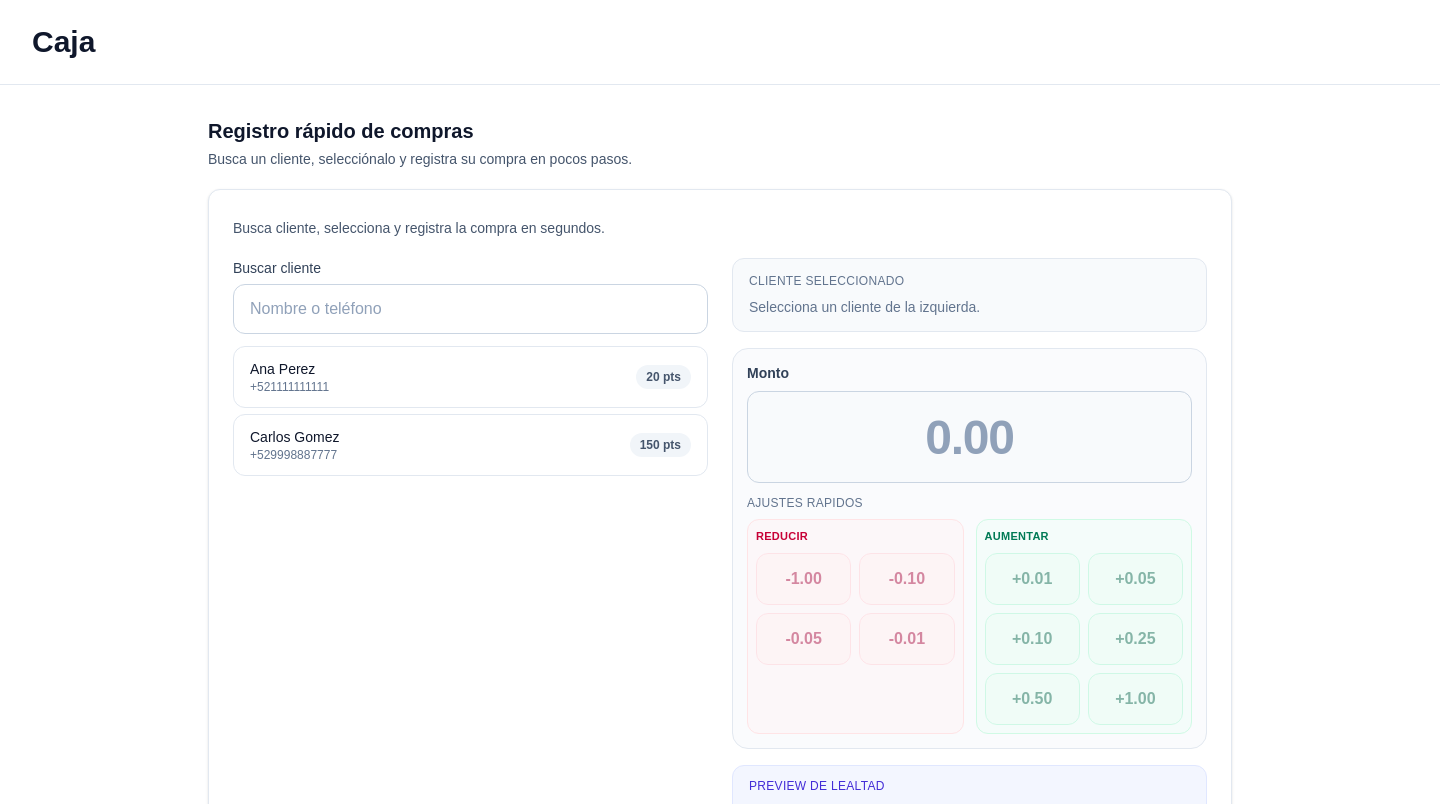
Scenario: DashboardCajaPage (/dashboard/caja) › customer search › filters the customer list when user types a phone number
This screenshot has width=1440, height=804.
Type "9998887777" into the search field labelled "Buscar cliente" at [470, 309], box left=233, top=284, right=708, bottom=334
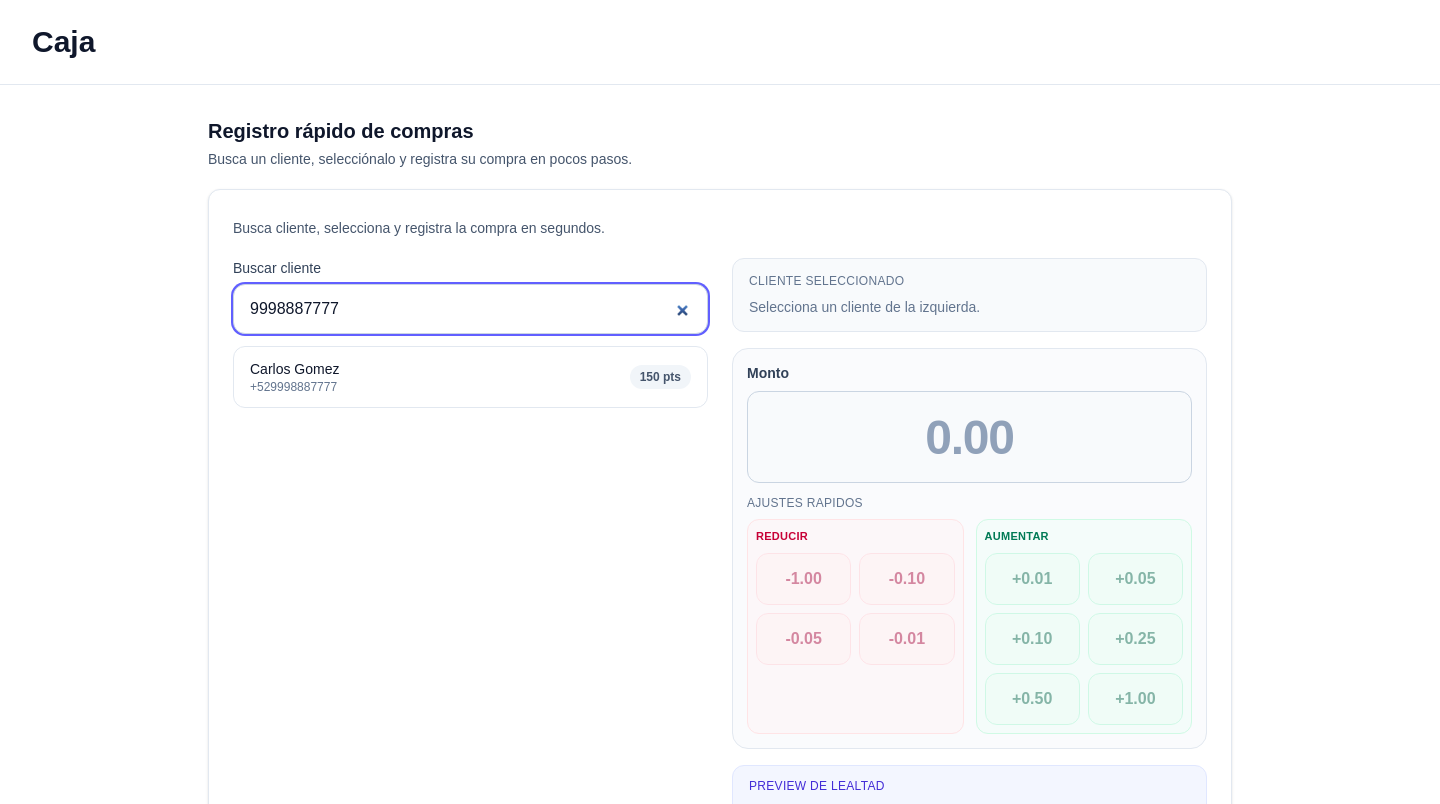
Expected: the button "Carlos Gomez +529998887777 150 pts" is shown, left=233, top=346, right=708, bottom=408
Result: the button "Ana Perez" is gone
